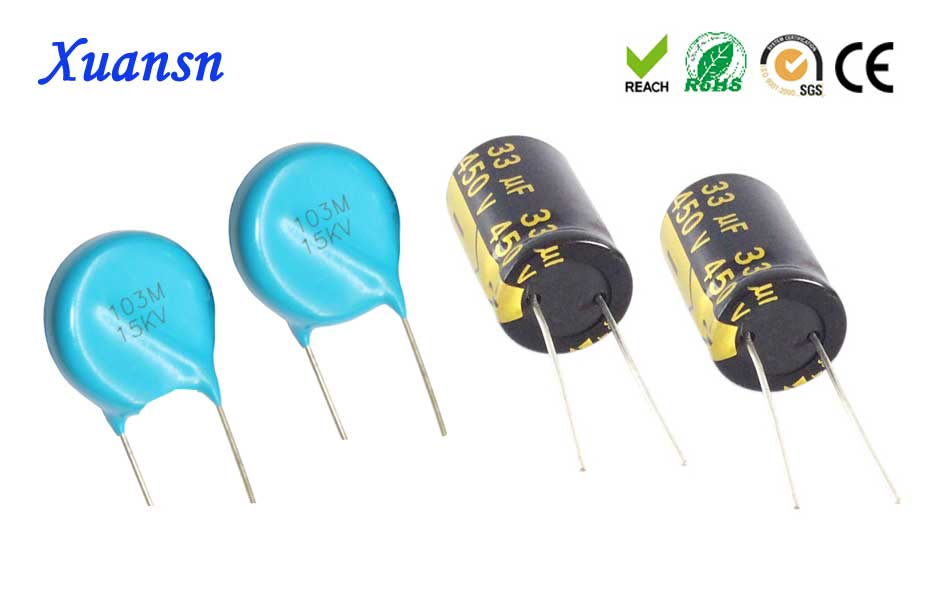capacitor: (632, 138, 877, 438), (194, 117, 428, 408), (416, 107, 646, 403), (32, 208, 237, 499)
